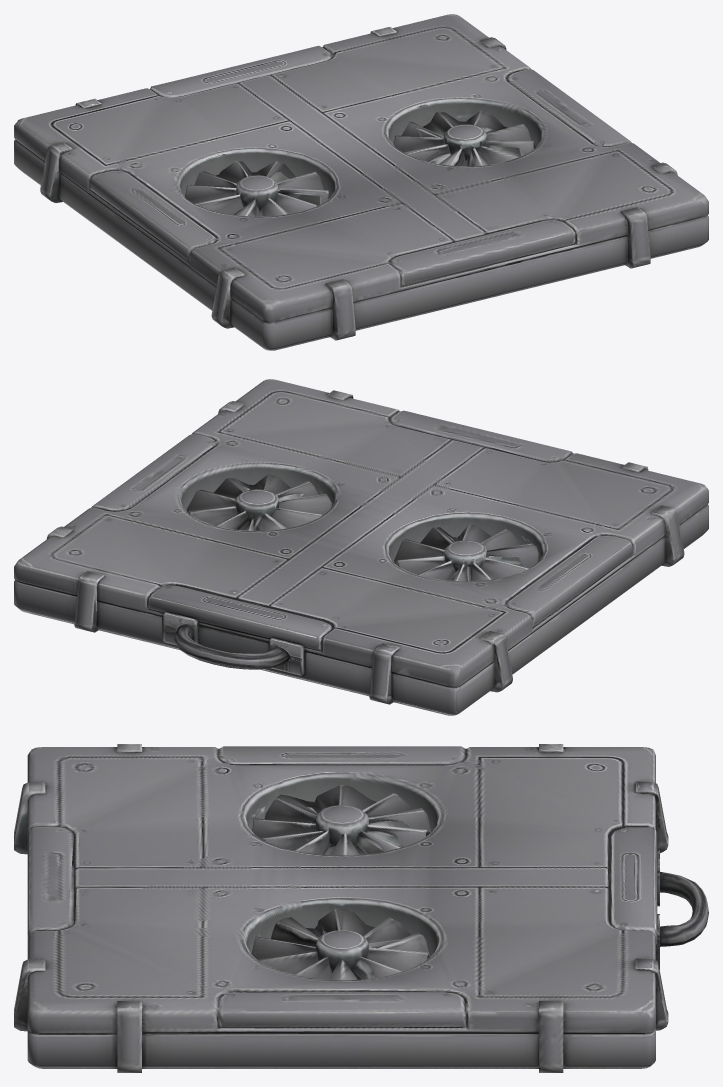
Rendered from tripo_convert_d0d88044-0e13-4999-9166-2d92c2a08e0d.fbx.
3 renders of one model, top to bottom at view 1: azimuth 30°, elevation 25°; view 2: azimuth 150°, elevation 25°; view 3: azimuth 270°, elevation 25°, orthographic. The views are drawn at different scales.
Visible parts, largest first — view 1: tripo_node_d0d88044; view 2: tripo_node_d0d88044; view 3: tripo_node_d0d88044.
Boxes of the visible parts, x1,y1,x2,y2 form: tripo_node_d0d88044: [14, 14, 708, 350]; tripo_node_d0d88044: [14, 379, 708, 715]; tripo_node_d0d88044: [14, 744, 708, 1072].
Bounding box in the file's own units: 0.9434 × 0.0996 × 0.998.
